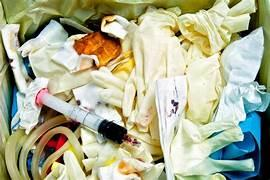Glove: (122, 7, 185, 131), (214, 28, 269, 123), (170, 119, 253, 176), (179, 0, 255, 55), (156, 76, 187, 179), (186, 53, 222, 123)
Syringe: (36, 89, 136, 143)
